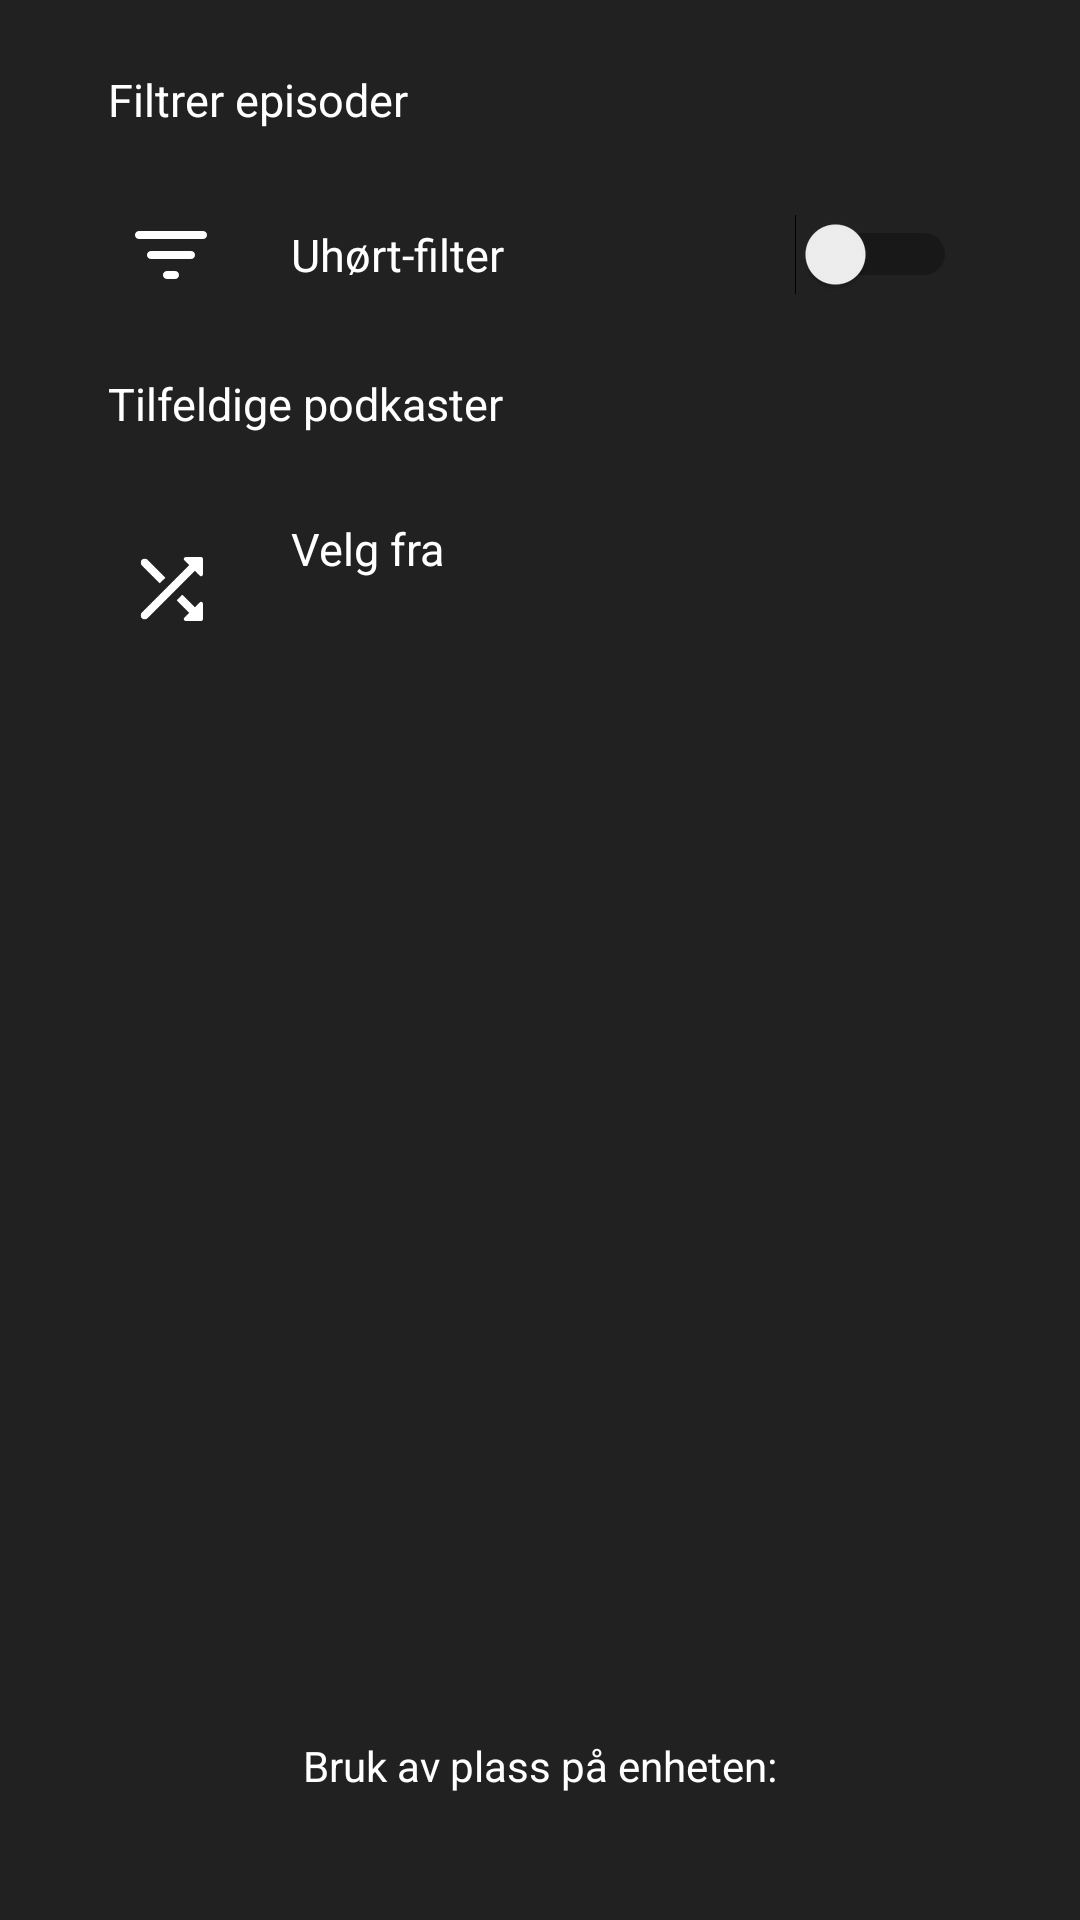

Point at icon controls on the screen. Image size 1080 × 1920, points as point (x, y).
Utvalg ved tilfeldig episode: point (171, 589)
